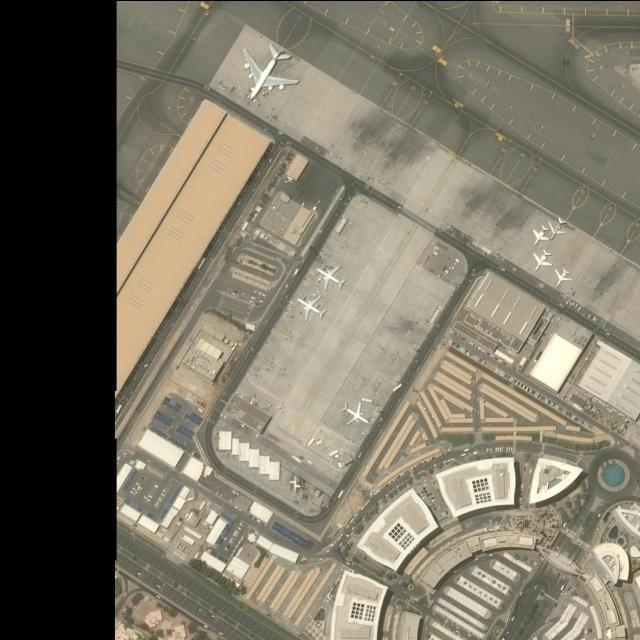Aircraft: (240, 37, 302, 106), (340, 398, 371, 430), (315, 263, 345, 289), (297, 298, 326, 322), (529, 247, 555, 272), (551, 266, 573, 287), (547, 216, 566, 240), (527, 227, 551, 243)
